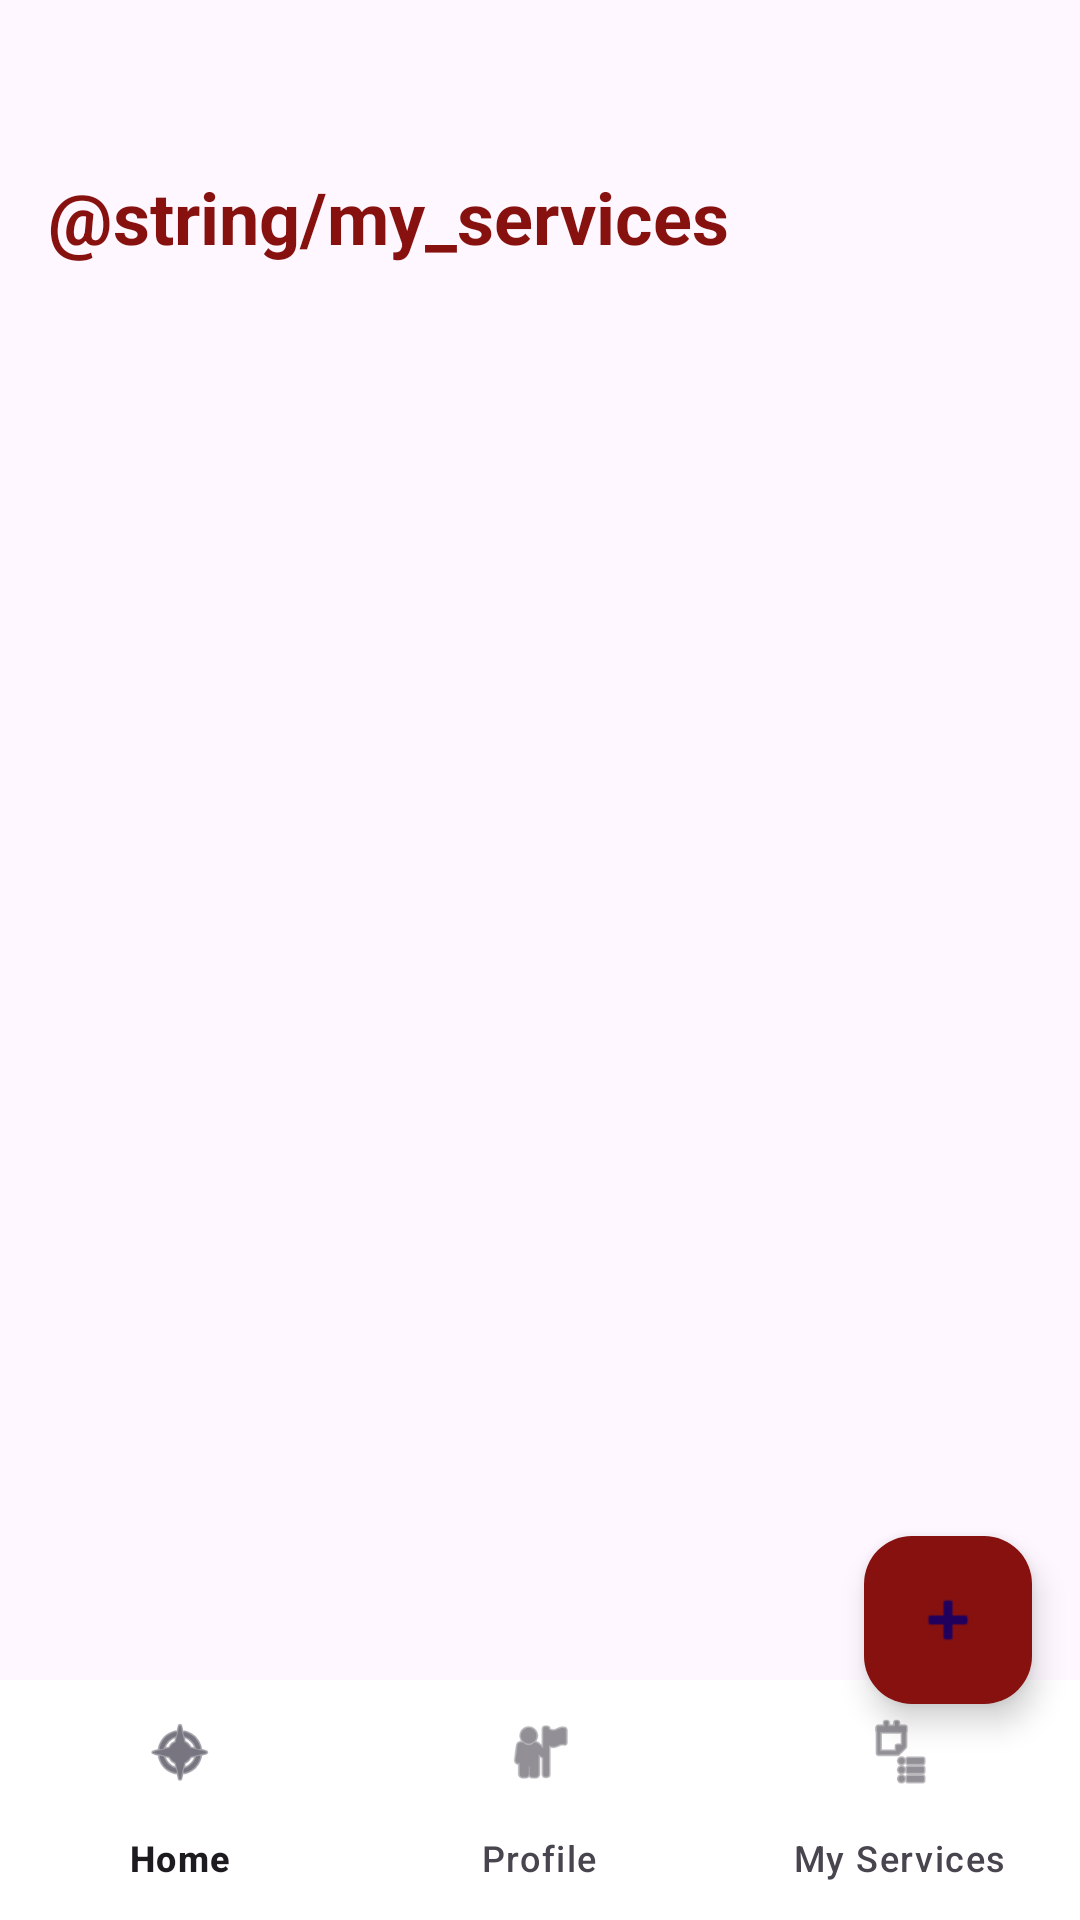

Named icons in this screenshot (1080×1920) and their bounding boxes, rect(x1, y1, x2, y2):
Add Service: rect(864, 1536, 1032, 1704)
